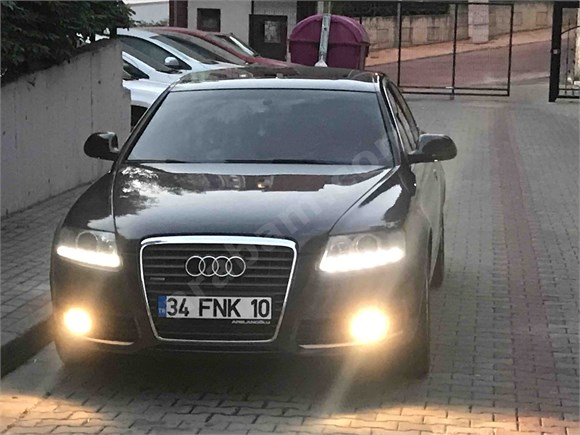audi: (180, 252, 252, 281)
